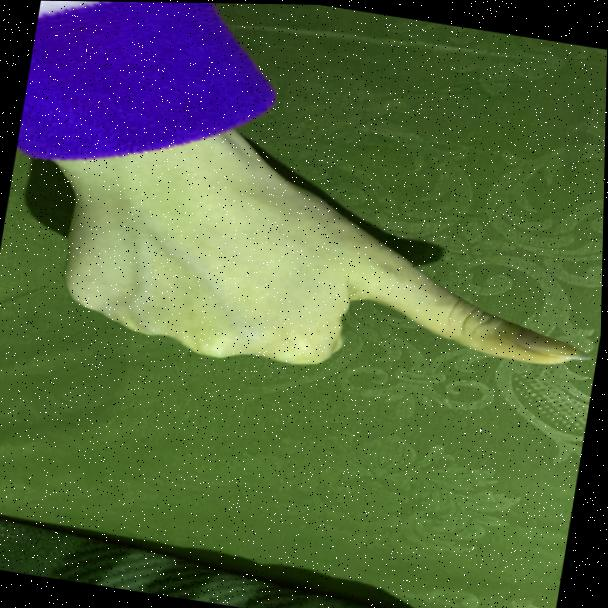five: (29, 130, 606, 423)
